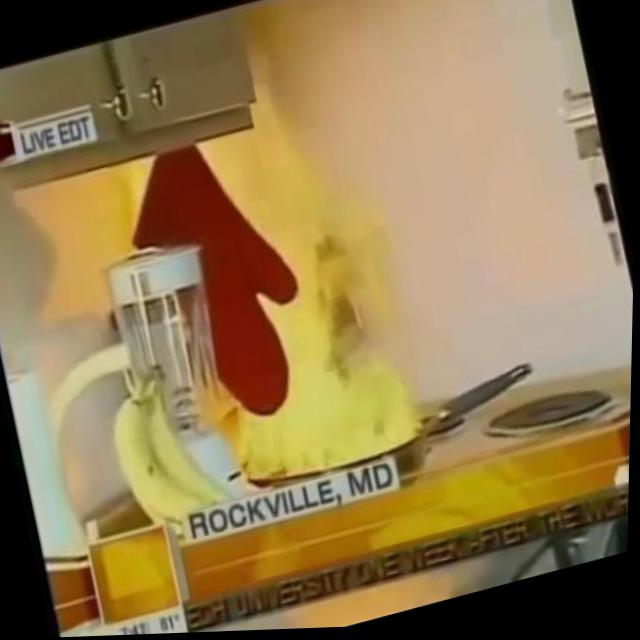fire: (170, 96, 432, 499)
